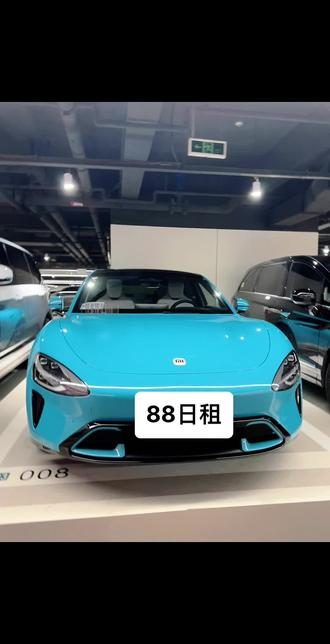su7: (20, 272, 304, 471)
